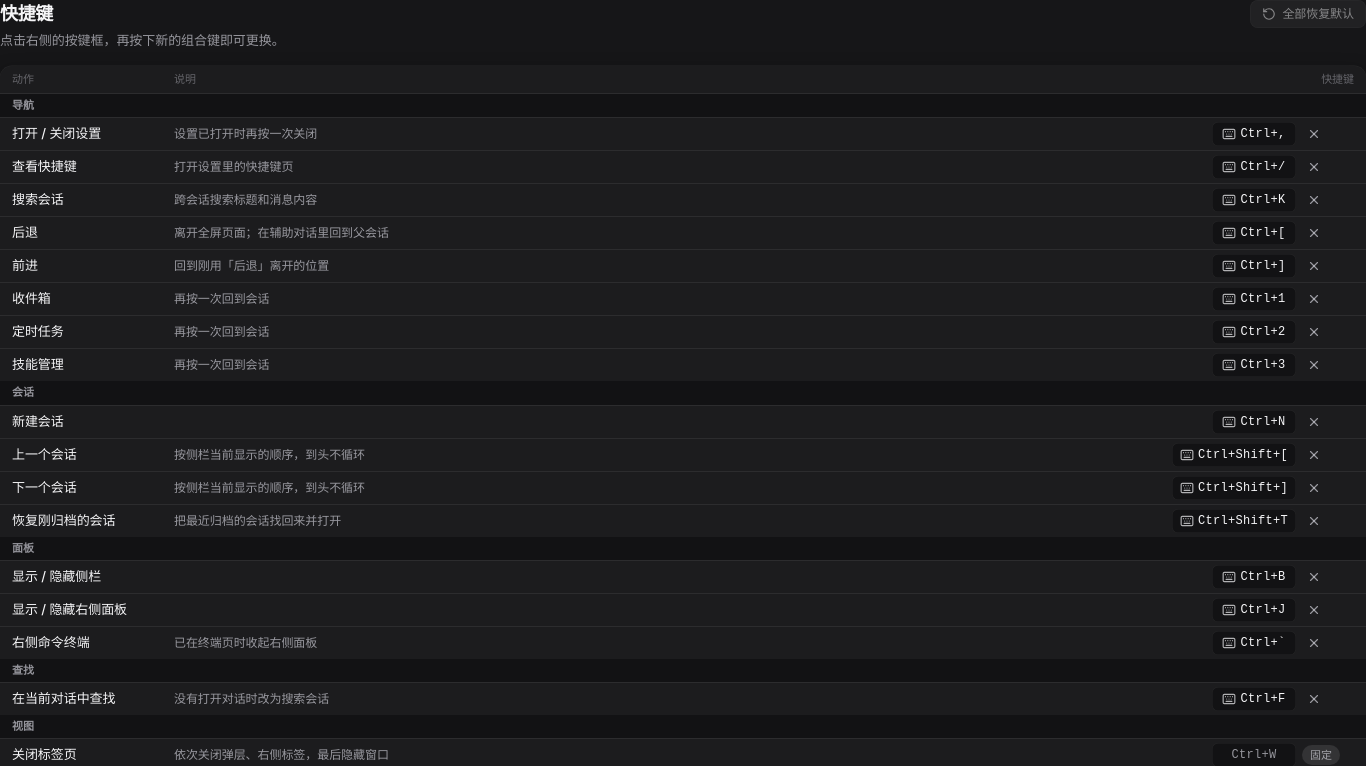
it: ShortcutsSection › conflict: giving up changes nothing, taking over unbinds the other action
Click the button "Ctrl+Shift+[" at [1234, 455], box [1172,443,1296,467]
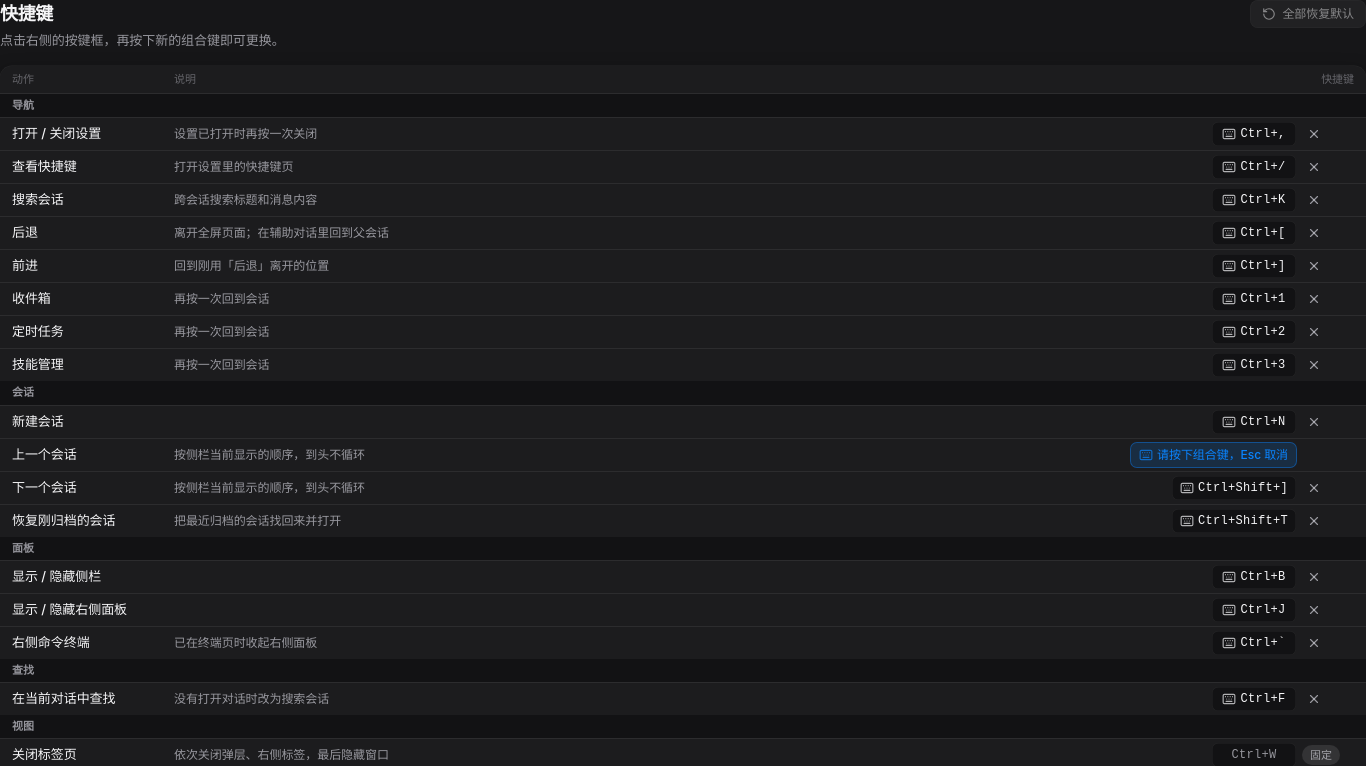
Press KeyN
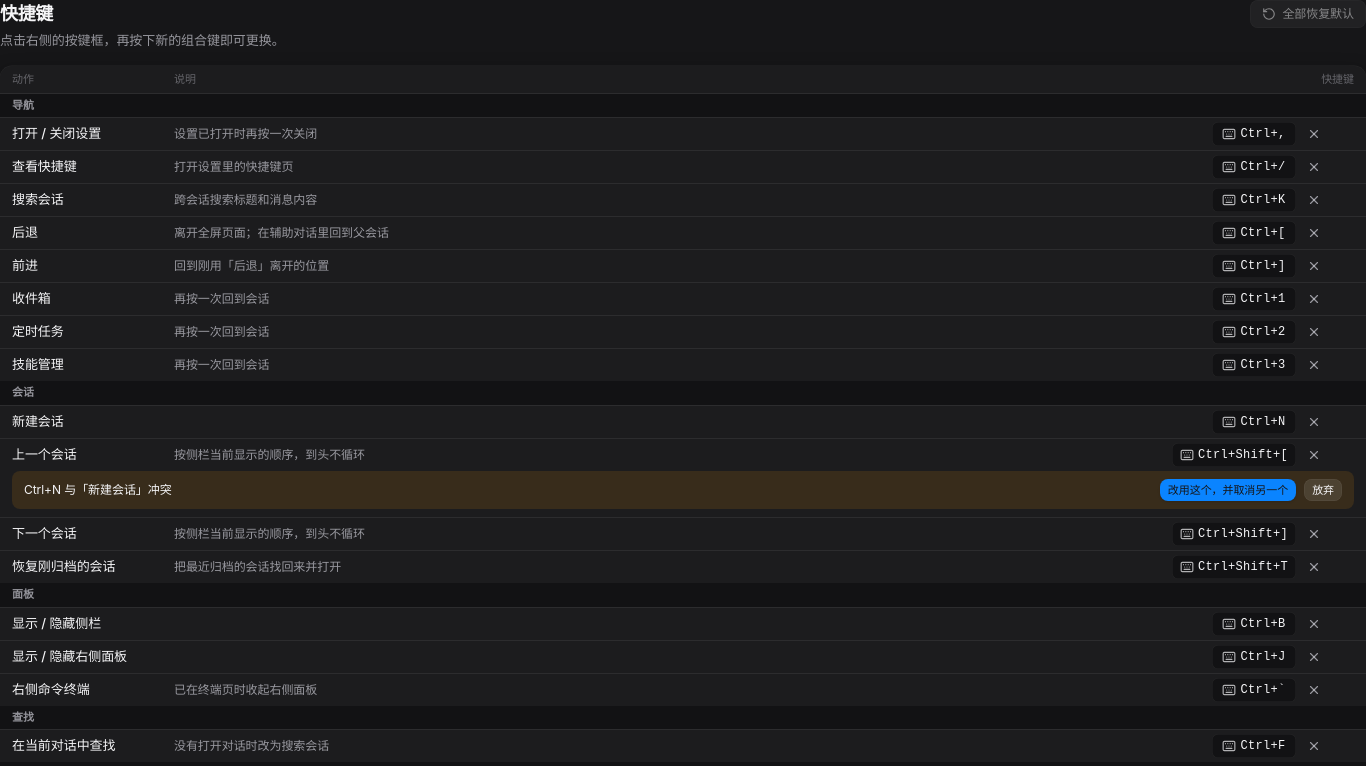
Expected: the message "Ctrl+N 与「新建会话」冲突 改用这个，并取消另一个 放弃" is shown, [12,471,1354,509]
Click the button "放弃" at [1323, 490], box [1304,479,1342,501]
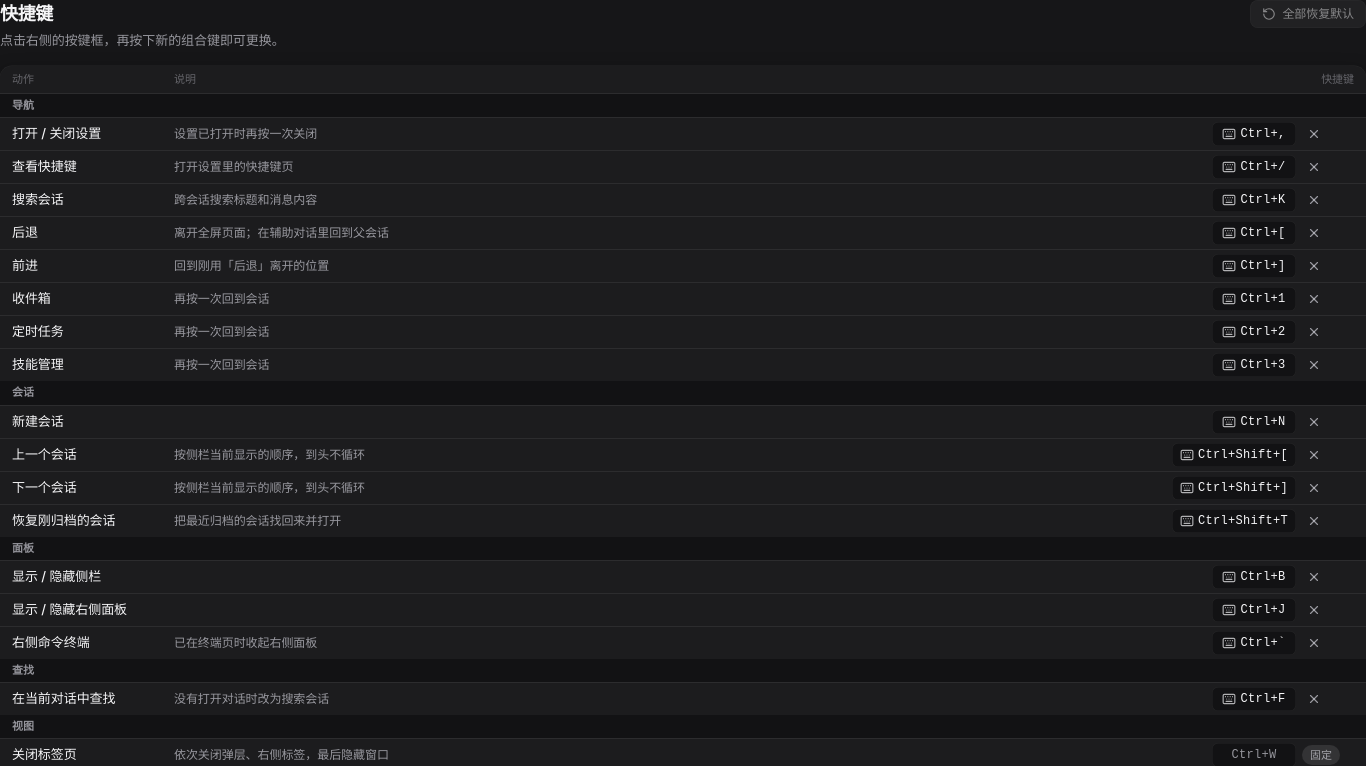
Expected: the message "Ctrl+N 与「新建会话」冲突 改用这个，并取消另一个 放弃" is gone
Click the button "Ctrl+Shift+[" at [1234, 455], box [1172,443,1296,467]
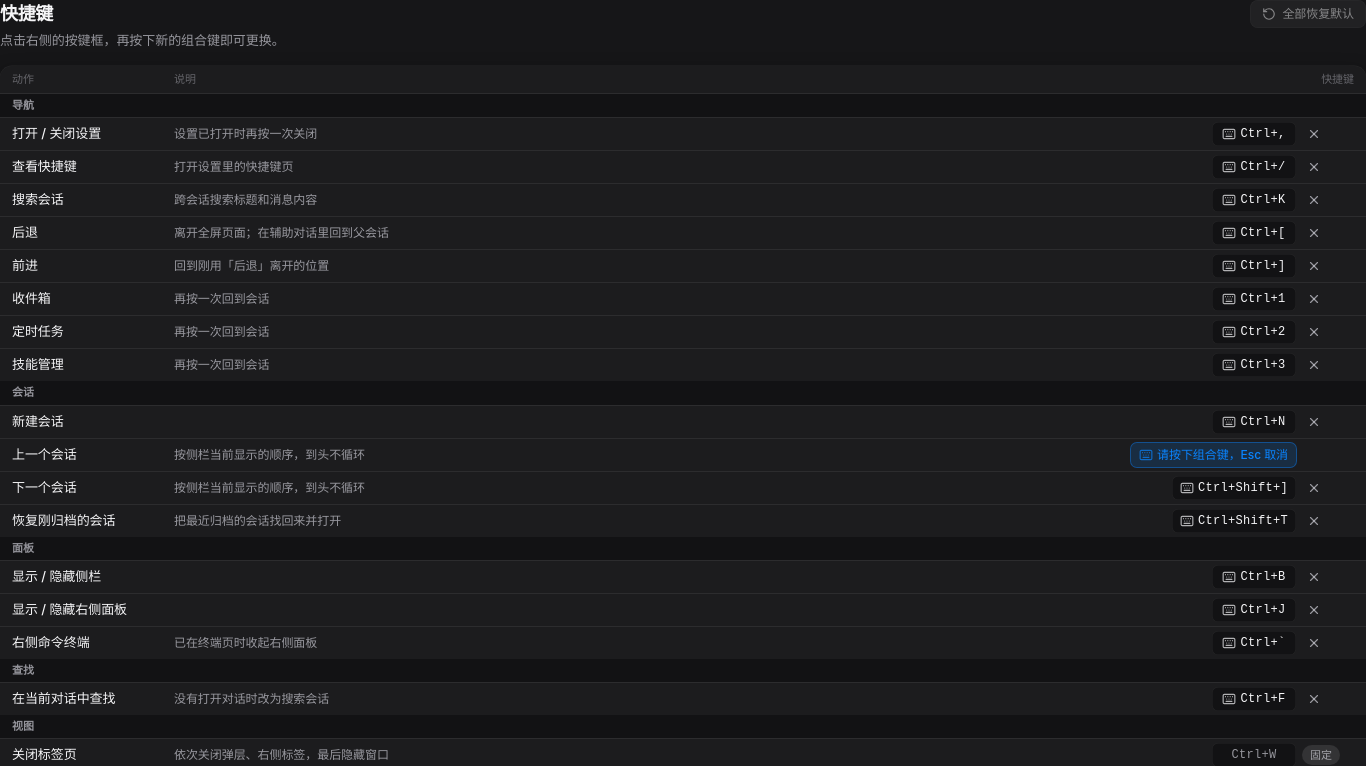
Press KeyN
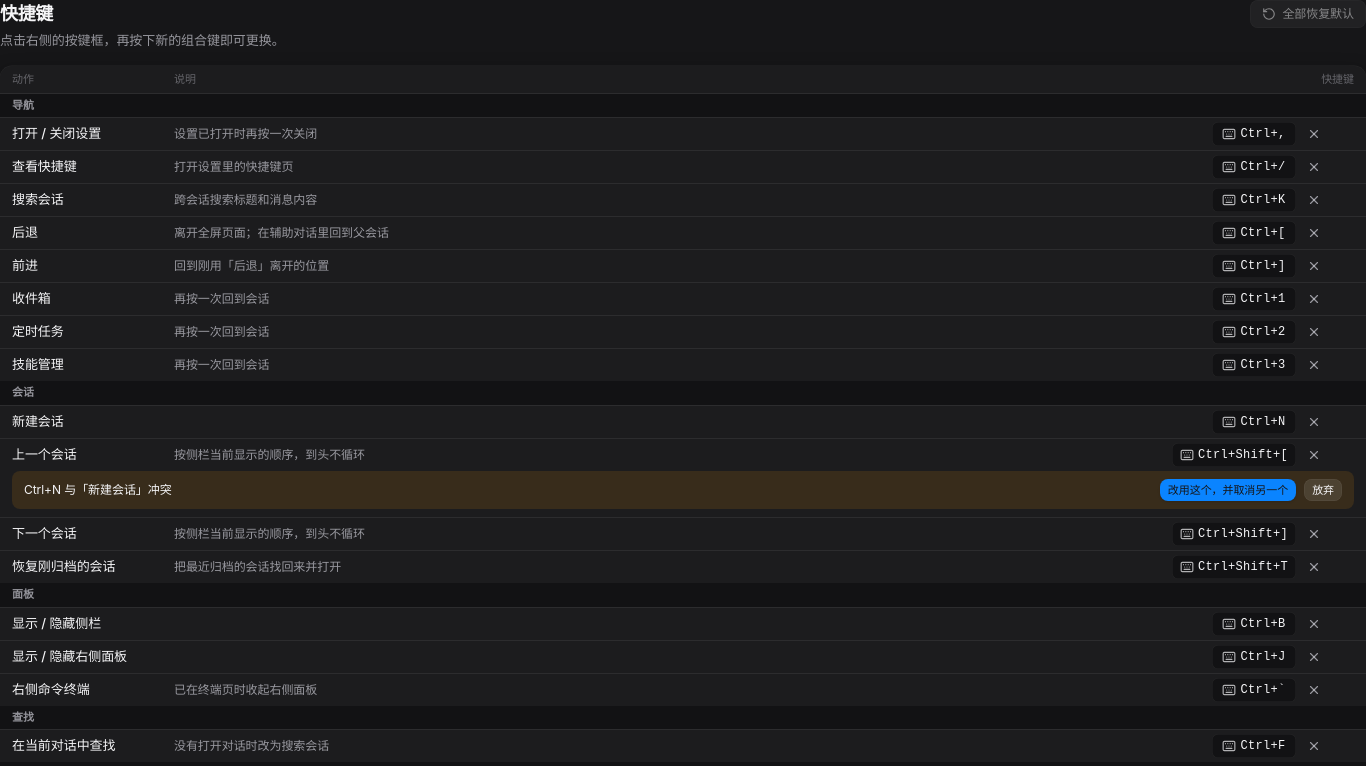
Click the button "改用这个，并取消另一个" at [1228, 490], box [1160,479,1296,501]
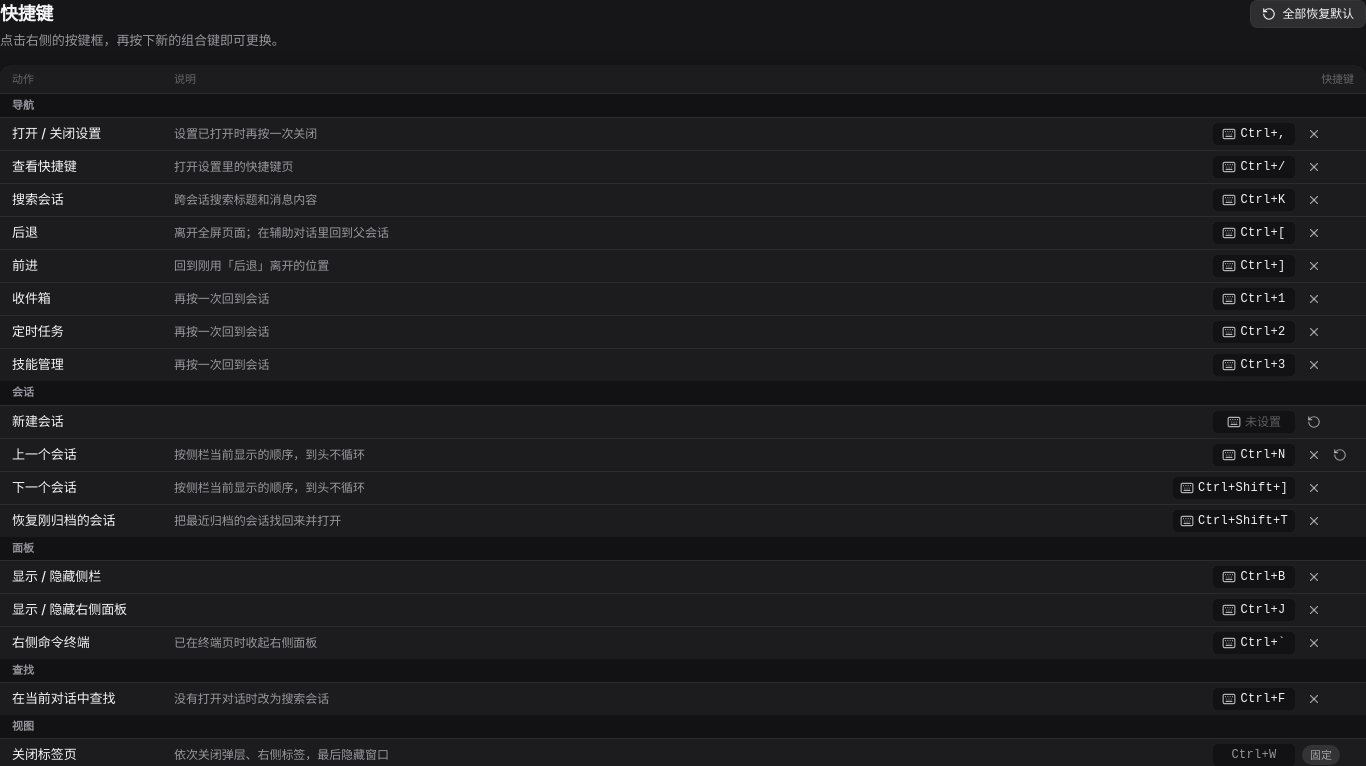
Expected: the text "未设置" is shown, [1245,414,1281,430]
